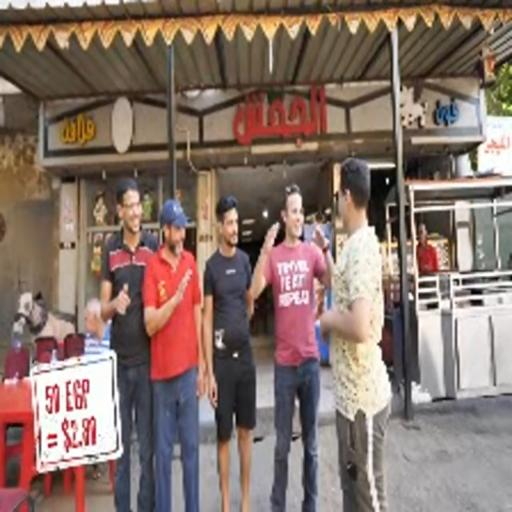nao-violencia: (92, 146, 398, 512)
